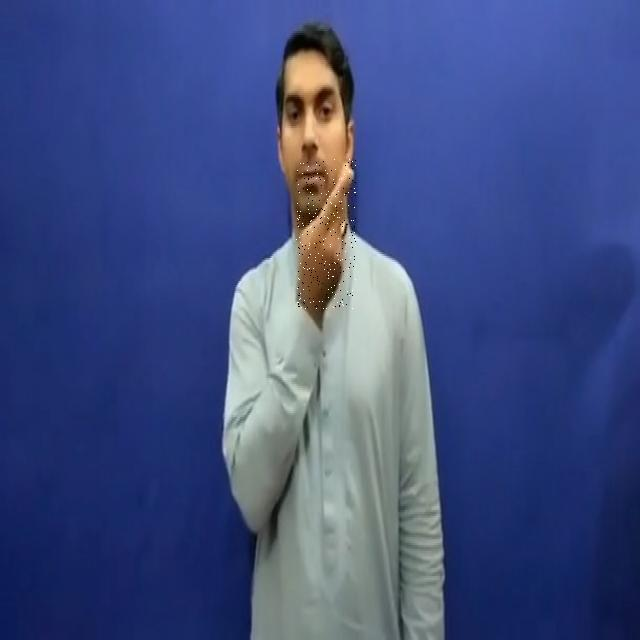napkin: (296, 159, 356, 309)
